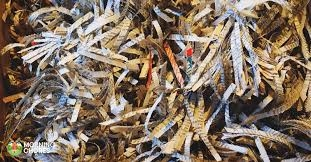paper: (22, 3, 135, 73), (180, 97, 222, 161), (23, 125, 94, 160), (152, 20, 185, 88), (225, 19, 251, 94), (57, 81, 96, 126), (137, 90, 165, 136), (288, 5, 310, 60)
